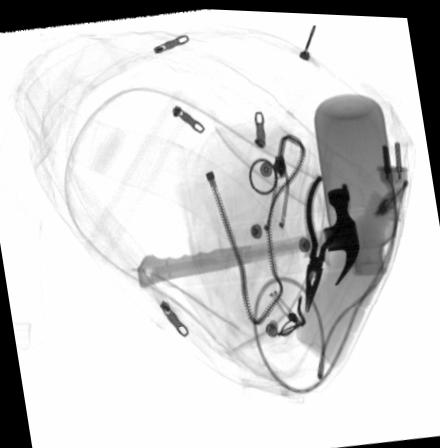Hammer: (138, 183, 360, 288)
Pliers: (303, 170, 349, 309)
